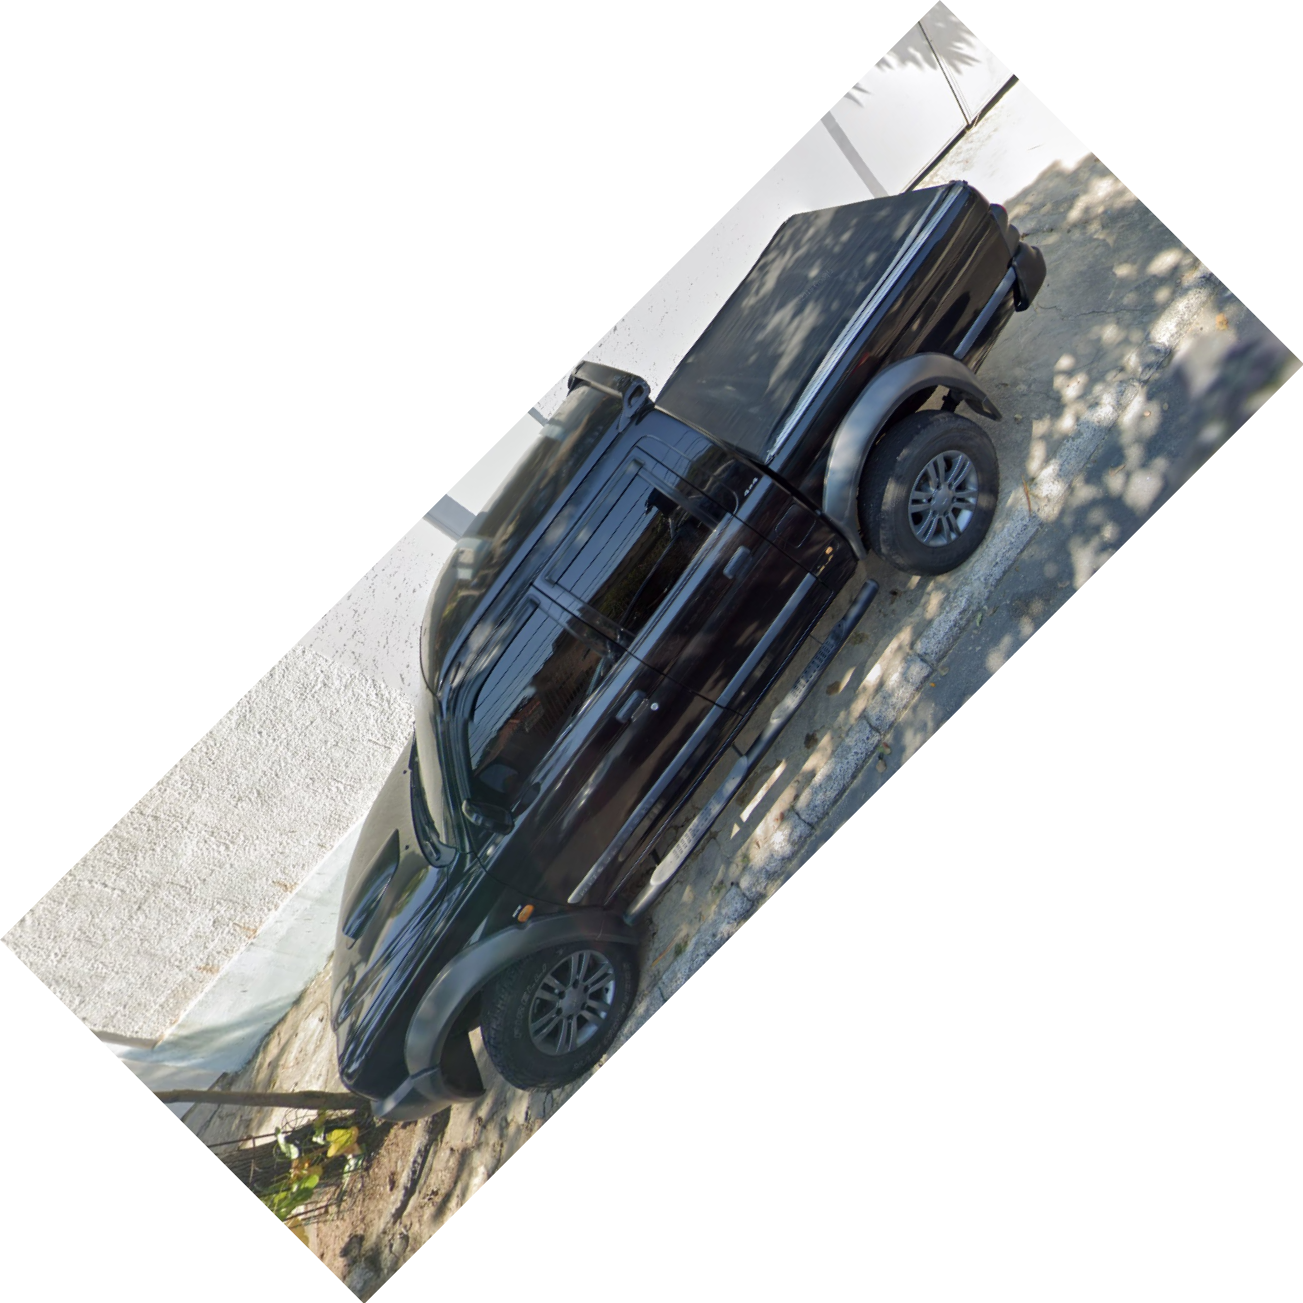car: (331, 187, 1046, 1126)
